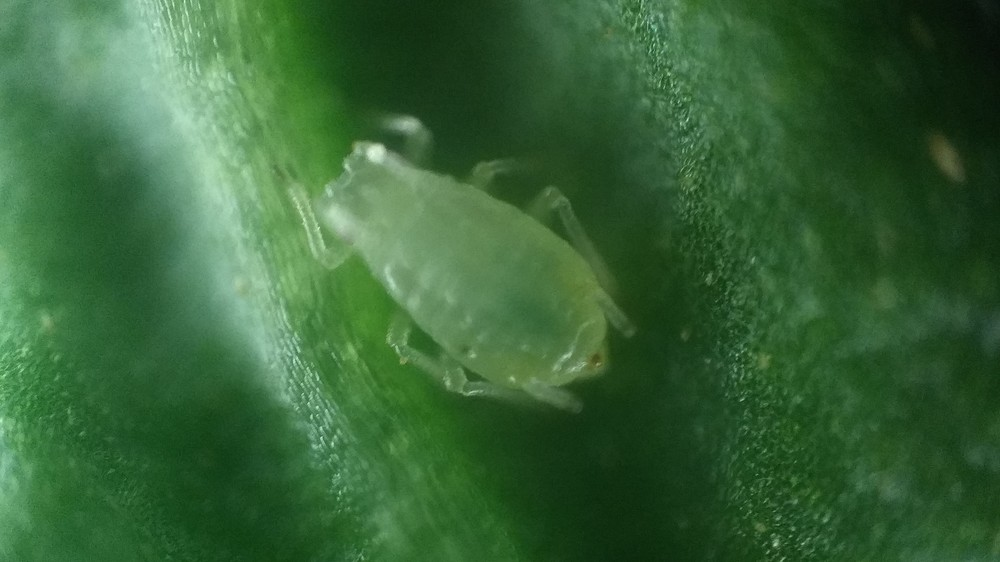Pulgon: (258, 123, 697, 456)
